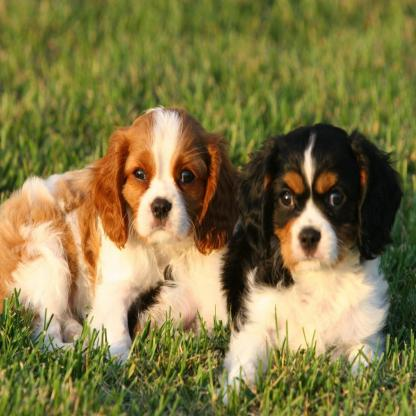Cavalier King Charles Spaniel: (7, 96, 237, 374), (229, 86, 402, 392)
